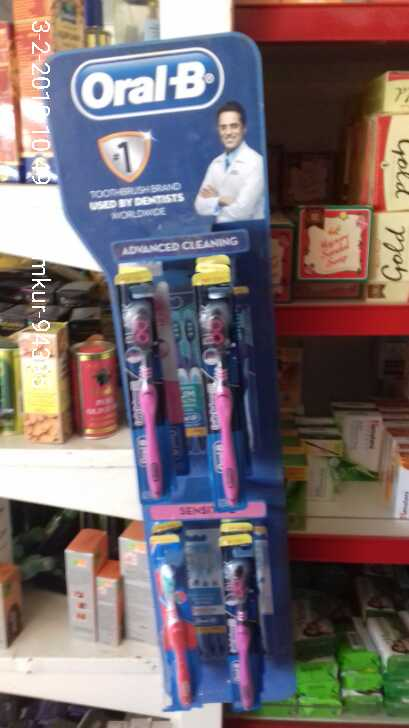oralb: (195, 293, 262, 508), (127, 292, 174, 509), (209, 546, 265, 713), (150, 553, 204, 712)
